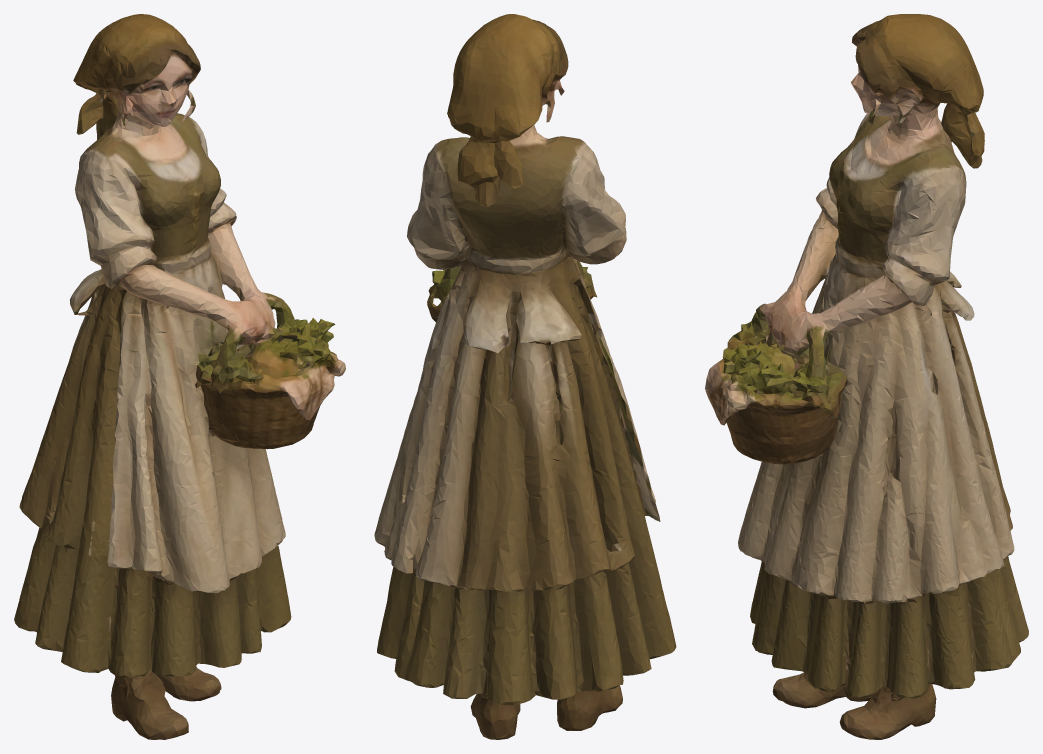
File: prop-villager_f.glb
3 views of the same model, side by side, from view 1: azimuth 30°, elevation 25°; view 2: azimuth 150°, elevation 25°; view 3: azimuth 270°, elevation 25° (orthographic). The views are drawn at different scales.
Parts seen in each view (by area): view 1: geometry_0; view 2: geometry_0; view 3: geometry_0.
Part boxes in pixels (x1,y1,x2,y2): geometry_0: (14, 14, 345, 739); geometry_0: (374, 14, 676, 739); geometry_0: (705, 14, 1028, 739).
Size of the model in its own units: 0.7564 by 2 by 0.8398.
Materials: 1 (1 with a texture image).
